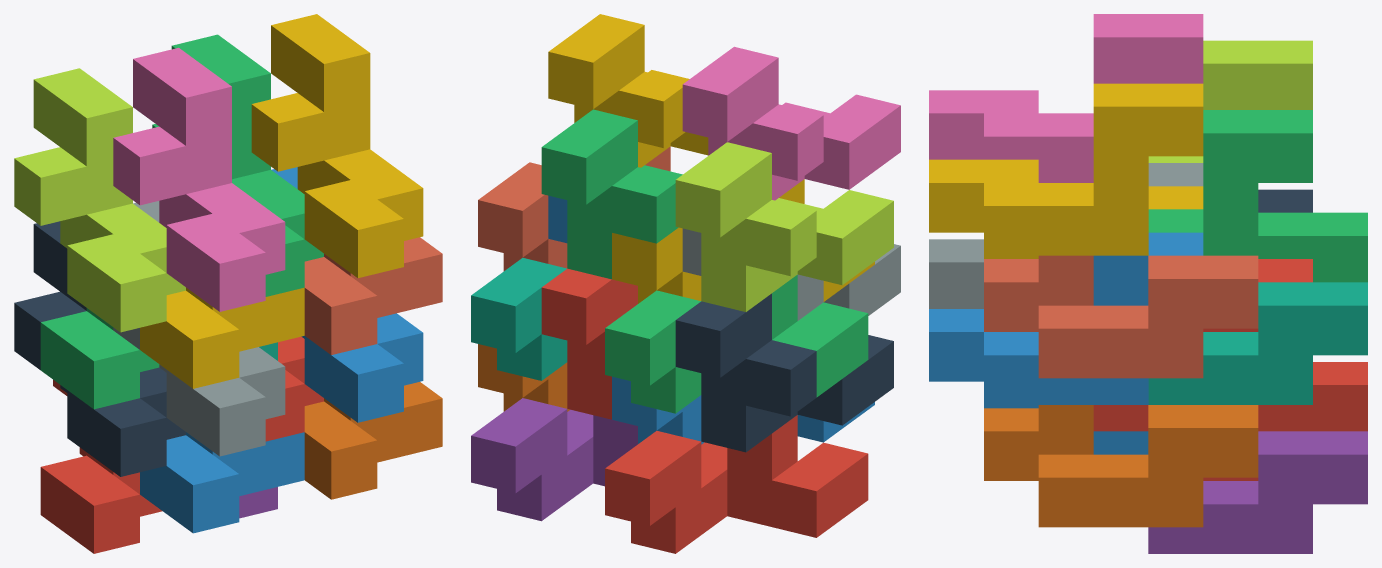
The model's file is tiling.obj.
3 renders of one model, left to right at view 1: azimuth 30°, elevation 25°; view 2: azimuth 150°, elevation 25°; view 3: azimuth 270°, elevation 25°, orthographic. The views are drawn at different scales.
Visible parts, largest first — view 1: copy_2_domain_8, copy_2_domain_4, copy_2_domain_3, copy_2_domain_1, copy_1_domain_4, copy_1_domain_2, copy_1_domain_6, copy_1_domain_8, copy_2_domain_7, copy_2_domain_2, copy_2_domain_6, copy_1_domain_1 (+3 smaller); view 2: copy_1_domain_1, copy_2_domain_3, copy_2_domain_1, copy_2_domain_4, copy_2_domain_7, copy_1_domain_3, copy_1_domain_5, copy_2_domain_8, copy_2_domain_5, copy_1_domain_7, copy_1_domain_8, copy_1_domain_4 (+4 smaller); view 3: copy_2_domain_8, copy_1_domain_8, copy_1_domain_6, copy_2_domain_4, copy_1_domain_5, copy_1_domain_7, copy_2_domain_6, copy_2_domain_7, copy_2_domain_3, copy_1_domain_3, copy_1_domain_1, copy_2_domain_2 (+4 smaller).
Part boxes in pixels (x1,y1,x2,y2): copy_2_domain_8: (251, 14, 423, 277); copy_2_domain_4: (113, 47, 285, 311); copy_2_domain_3: (14, 68, 185, 332); copy_2_domain_1: (14, 221, 185, 476); copy_1_domain_4: (140, 287, 304, 388); copy_1_domain_2: (140, 432, 304, 533); copy_1_domain_6: (304, 382, 442, 499); copy_1_domain_8: (304, 237, 442, 354); copy_2_domain_7: (152, 34, 323, 296); copy_2_domain_2: (113, 201, 285, 456); copy_2_domain_6: (271, 167, 423, 422); copy_1_domain_1: (40, 380, 162, 553); copy_1_domain_1: (605, 415, 868, 553); copy_2_domain_3: (675, 142, 893, 311); copy_2_domain_1: (675, 293, 893, 452); copy_2_domain_4: (682, 46, 900, 200); copy_2_domain_7: (541, 109, 682, 279); copy_1_domain_3: (605, 275, 868, 413); copy_1_domain_5: (471, 398, 637, 521); copy_2_domain_8: (548, 14, 708, 167); copy_2_domain_5: (541, 268, 637, 419); copy_1_domain_7: (471, 258, 567, 380); copy_1_domain_8: (478, 146, 670, 271); copy_1_domain_4: (612, 179, 874, 303); copy_2_domain_8: (929, 83, 1203, 255); copy_1_domain_8: (984, 255, 1258, 378); copy_1_domain_6: (984, 405, 1258, 527); copy_2_domain_4: (929, 14, 1203, 182); copy_1_domain_5: (1148, 431, 1367, 553); copy_1_domain_7: (1148, 282, 1367, 404); copy_2_domain_6: (929, 232, 1203, 404); copy_2_domain_7: (1148, 110, 1312, 255); copy_2_domain_3: (1148, 40, 1312, 162); copy_1_domain_3: (1258, 212, 1367, 282); copy_1_domain_1: (1203, 362, 1367, 480); copy_2_domain_2: (929, 163, 1203, 308).
Bounding box in the file's own units: 7 × 9 × 8.
